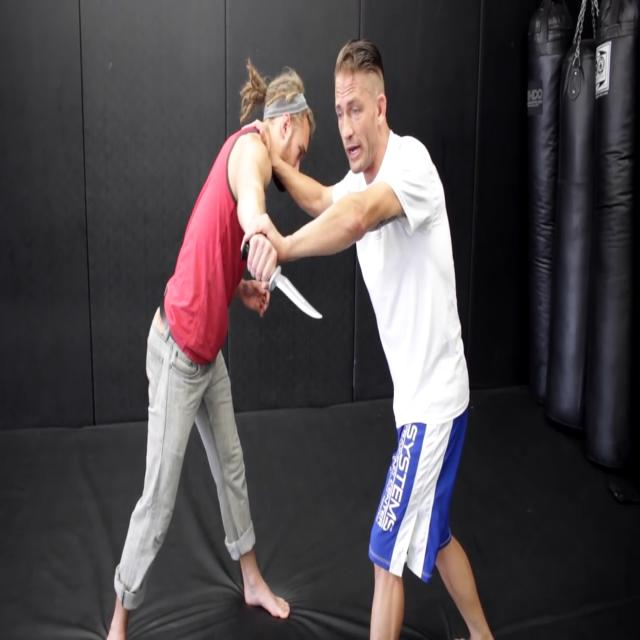knife: (240, 238, 326, 326)
